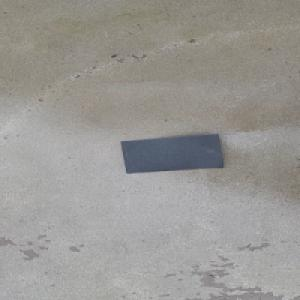PaintChip: (120, 133, 223, 173)
